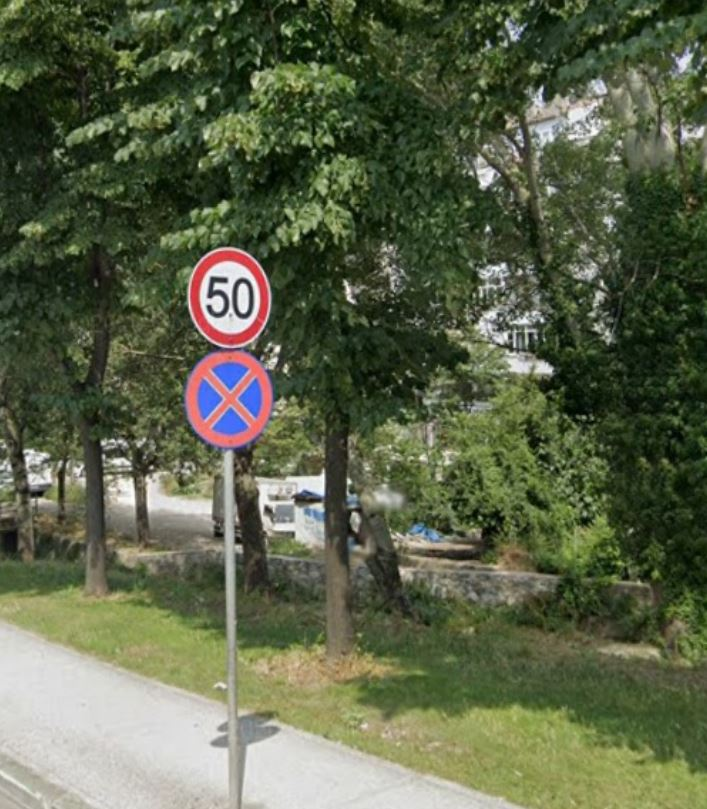50 Km Hiz Siniri: (187, 248, 279, 351)
